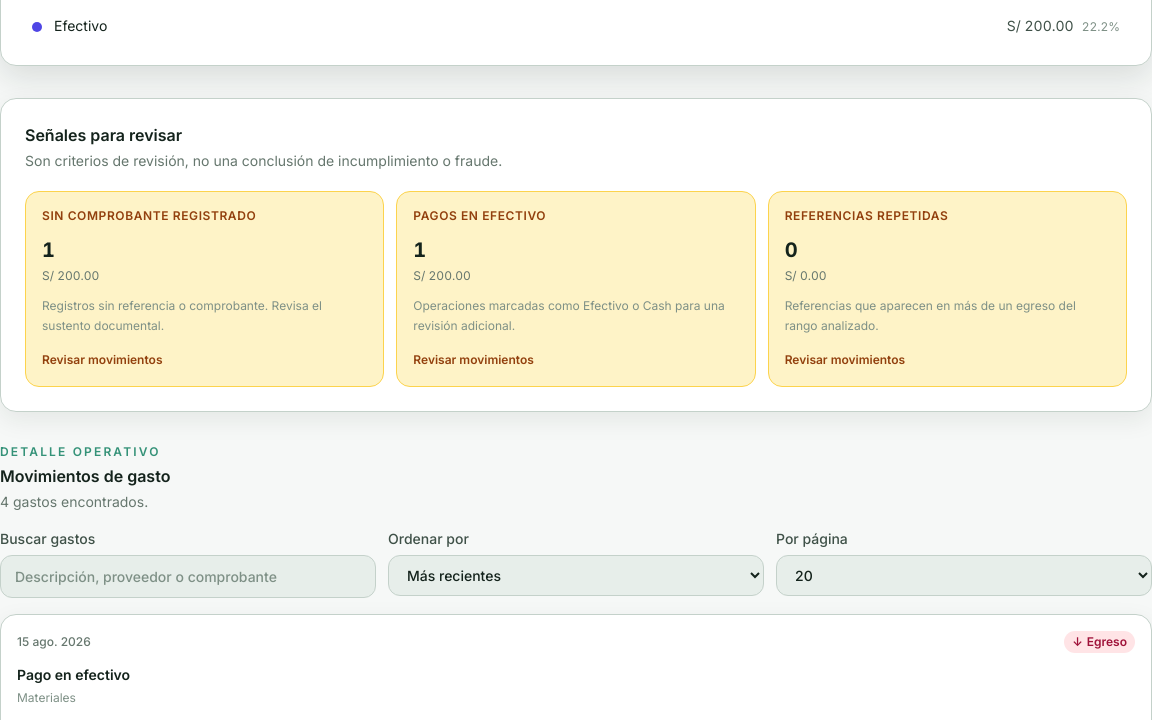
ExpensesPage › filtra solo el detalle al seleccionar una señal y conserva los indicadores
(page scrolled)
Click the button "Revisar movimientos" below "Pagos en efectivo". click: (474, 360)
box: left=413, top=352, right=534, bottom=368
(page scrolled)
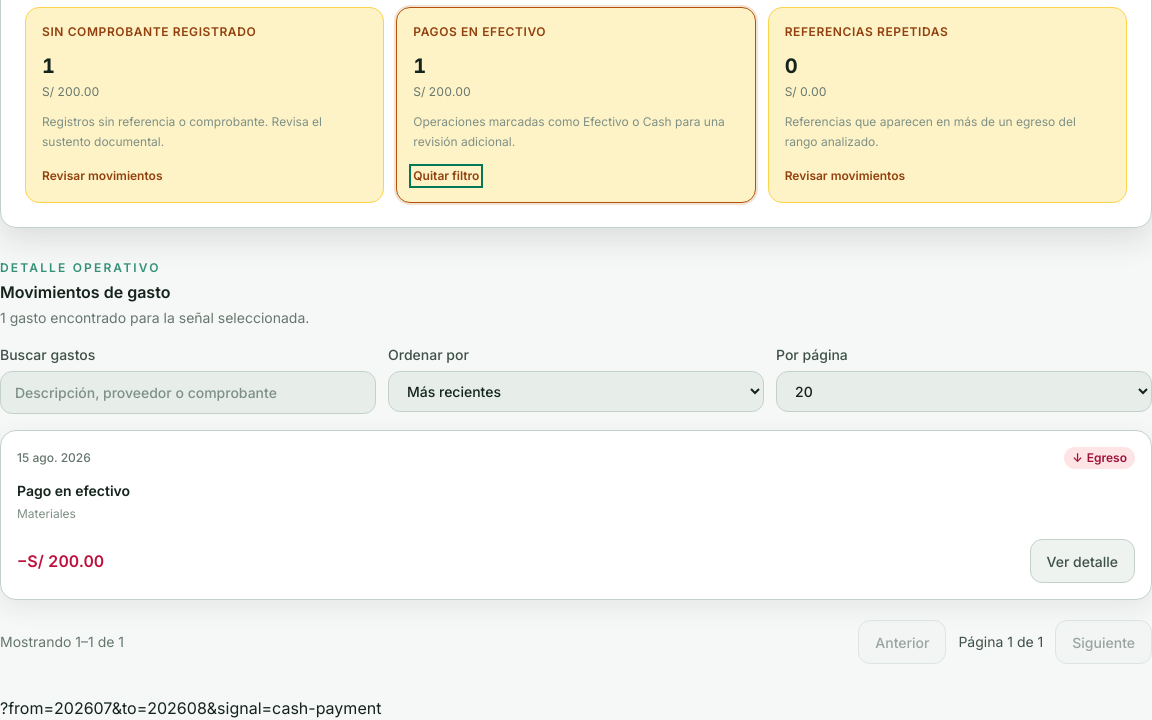
Check: the text "1 gasto encontrado para la señal seleccionada." is shown, box left=0, top=309, right=309, bottom=326
Check: the text with test id "location" shows "signal=cash-payment", box left=0, top=698, right=381, bottom=718
